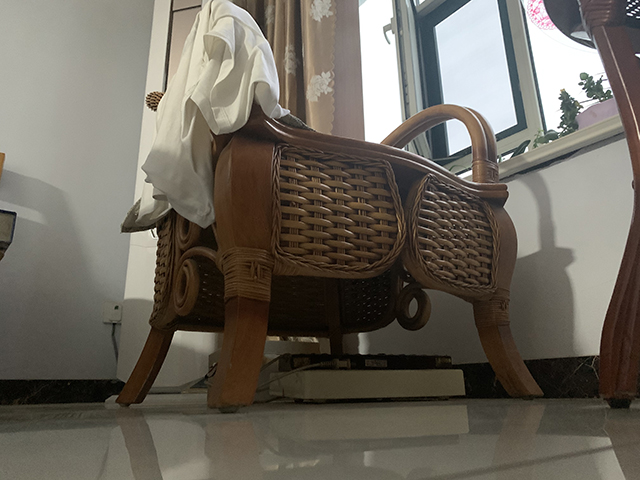stool: (112, 1, 544, 416)
wire: (261, 349, 328, 404)
